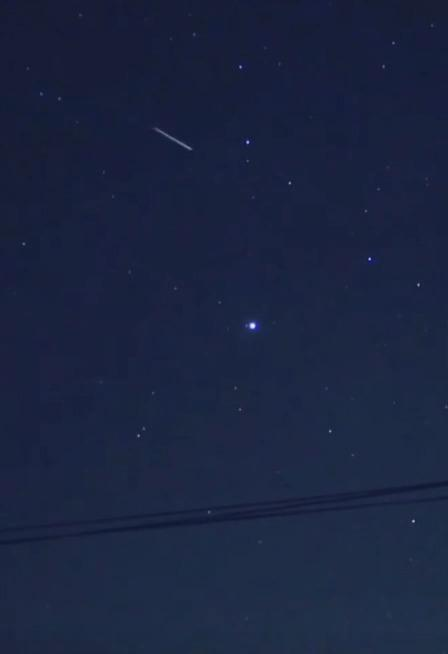meteorite: (137, 120, 207, 160)
